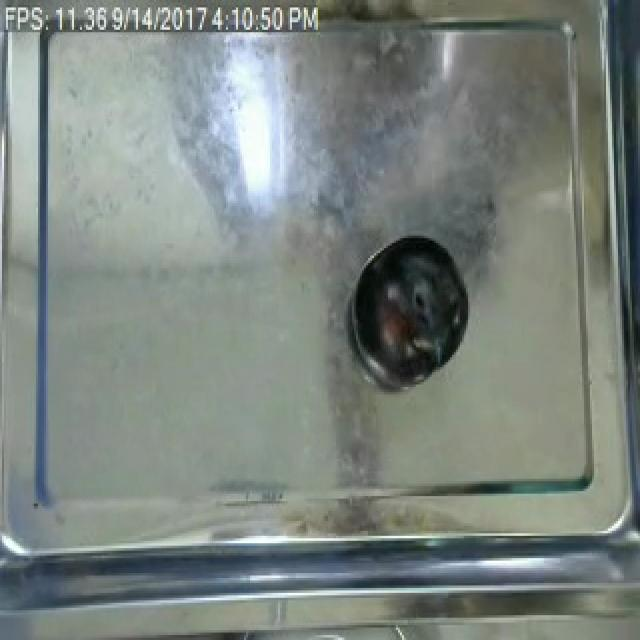Fruit: (348, 231, 474, 377)
